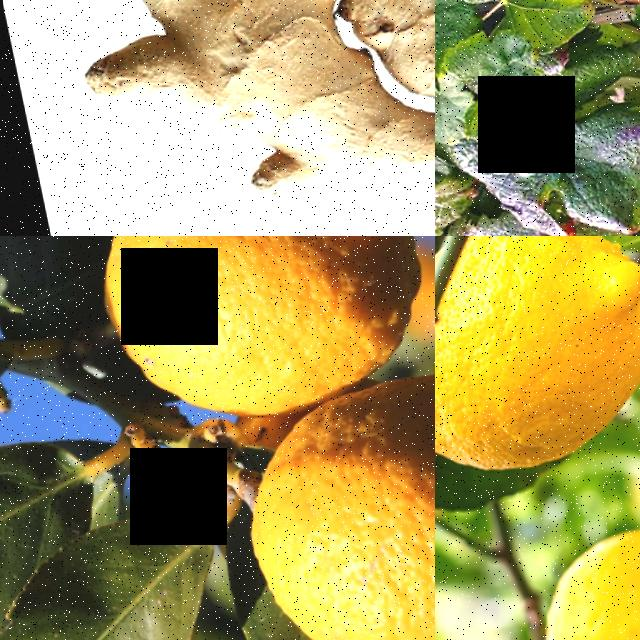ginger: (0, 0, 435, 236)
lemon: (76, 236, 435, 445), (213, 346, 435, 640), (435, 236, 640, 496), (509, 514, 640, 640)
